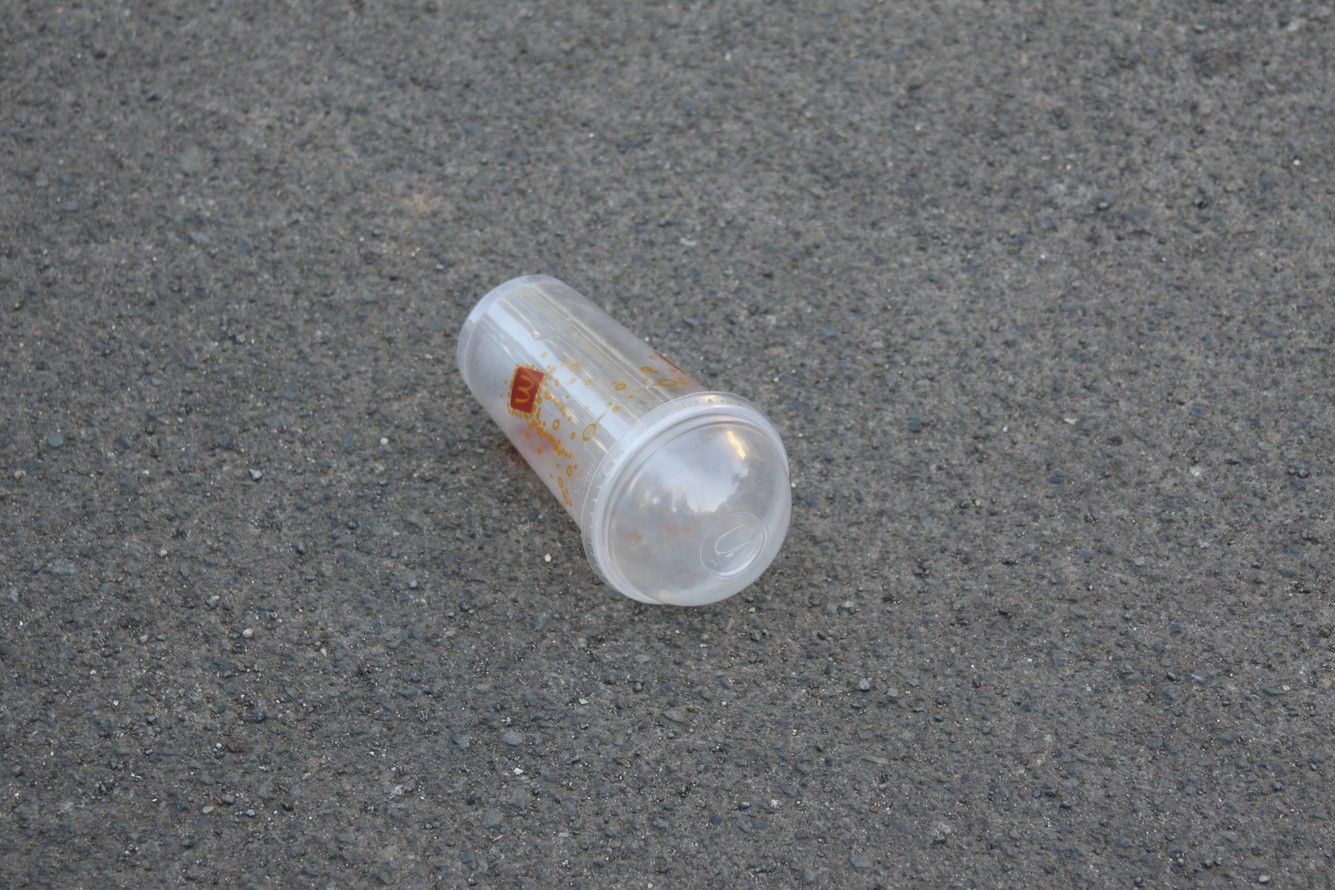Plastic: (452, 270, 797, 611)
